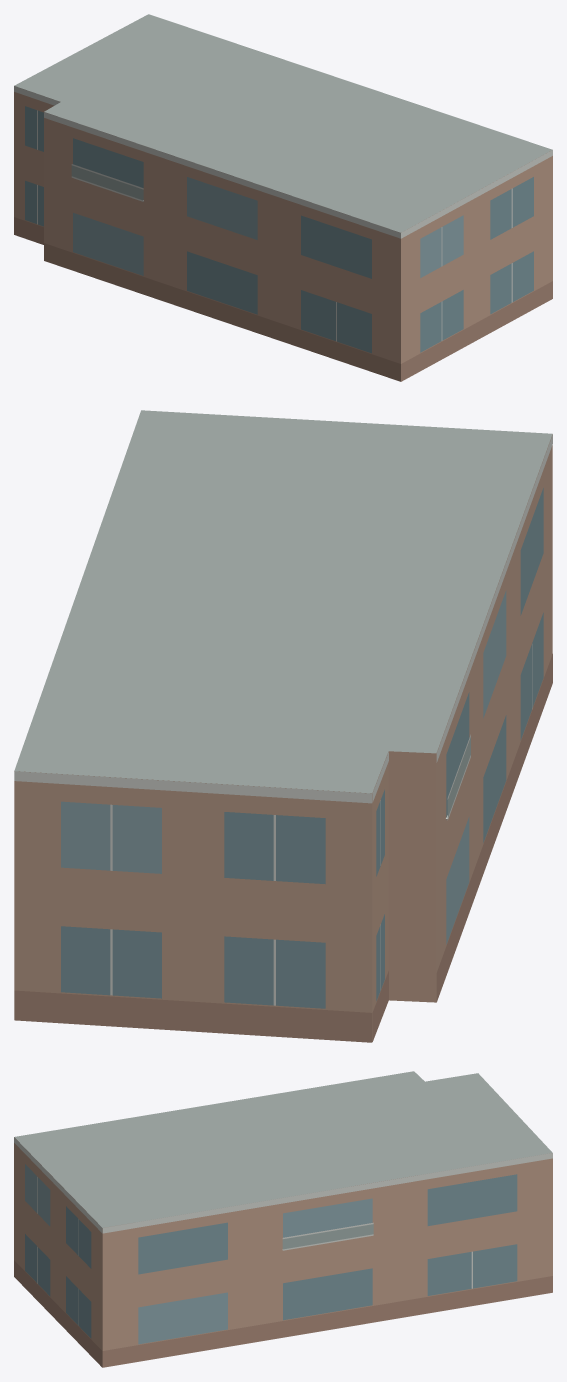
Rendered from survey-upis-32867634.glb.
3 renders of one model, top to bottom at view 1: azimuth 30°, elevation 25°; view 2: azimuth 150°, elevation 25°; view 3: azimuth 270°, elevation 25°, orthographic. The views are drawn at different scales.
Visible parts, largest first — view 1: survey-upis-32867634.tmp; view 2: survey-upis-32867634.tmp; view 3: survey-upis-32867634.tmp.
Boxes of the visible parts, box(x1,y1,x2,y2) form: survey-upis-32867634.tmp: box(14, 14, 552, 381); survey-upis-32867634.tmp: box(14, 410, 552, 1042); survey-upis-32867634.tmp: box(14, 1071, 552, 1367).
Size of the model in its own units: 14.69 by 6.1 by 21.32.
